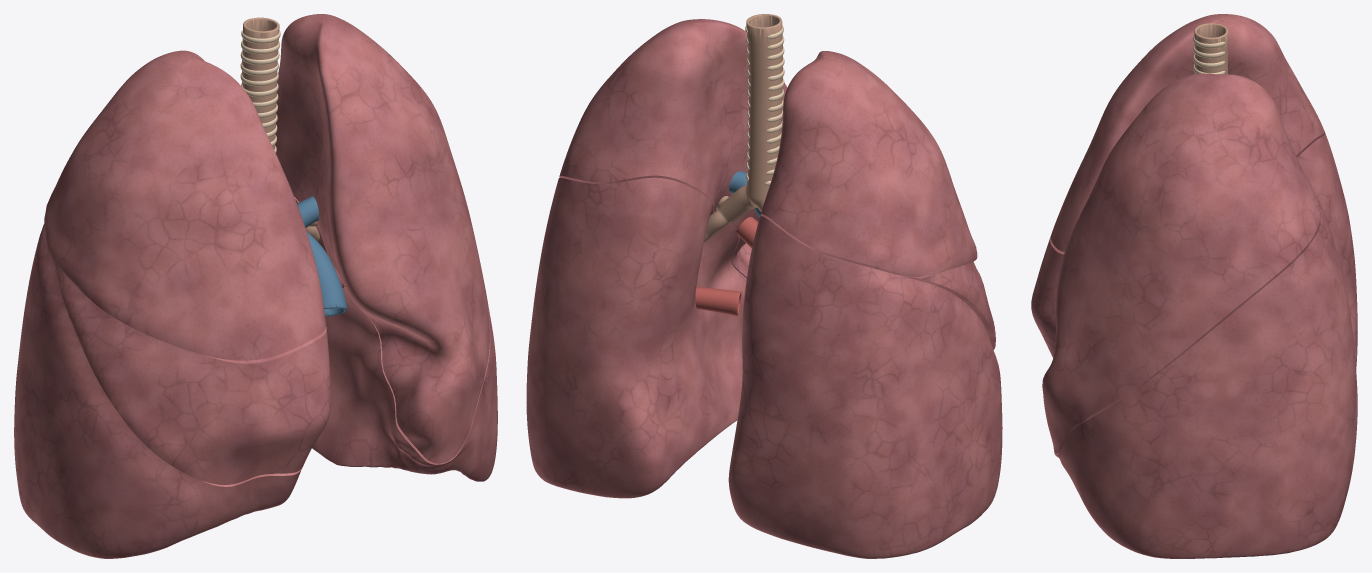
The model's file is previous-inferior.glb.
3 renders of one model, left to right at view 1: azimuth 30°, elevation 25°; view 2: azimuth 150°, elevation 25°; view 3: azimuth 270°, elevation 25°, orthographic. The views are drawn at different scales.
Visible parts, largest first — view 1: RUL, LUL, RLL, RML, LLL, Airway_Tree, Pulmonary_Arteries, Tracheal_Cartilage; view 2: RLL, LLL, RUL, LUL, Airway_Tree, RML, Tracheal_Cartilage, Pulmonary_Vein_L_Inferior; view 3: LLL, LUL, RUL, RLL, RML, Airway_Tree, Tracheal_Cartilage.
Boxes of the visible parts, bbox=[...] form: RUL: bbox=[44, 50, 326, 360]; LUL: bbox=[275, 14, 489, 463]; RLL: bbox=[14, 224, 302, 558]; RML: bbox=[53, 260, 330, 484]; LLL: bbox=[294, 197, 497, 481]; Airway_Tree: bbox=[242, 17, 319, 241]; Pulmonary_Arteries: bbox=[297, 196, 347, 316]; Tracheal_Cartilage: bbox=[240, 30, 280, 152]; RLL: bbox=[728, 216, 1002, 558]; LLL: bbox=[526, 177, 746, 498]; RUL: bbox=[760, 51, 977, 277]; LUL: bbox=[559, 19, 787, 278]; Airway_Tree: bbox=[704, 14, 782, 242]; RML: bbox=[897, 261, 995, 349]; Tracheal_Cartilage: bbox=[745, 25, 784, 185]; Pulmonary_Vein_L_Inferior: bbox=[695, 287, 741, 315]; LLL: bbox=[1055, 196, 1357, 558]; LUL: bbox=[1042, 73, 1319, 453]; RUL: bbox=[1050, 14, 1324, 251]; RLL: bbox=[1296, 131, 1357, 368]; RML: bbox=[1031, 236, 1064, 357]; Airway_Tree: bbox=[1194, 23, 1228, 74]; Tracheal_Cartilage: bbox=[1193, 35, 1225, 74].
Bounding box in the file's own units: 0.254 × 0.2673 × 0.1807.
9 materials, 5 textured.
